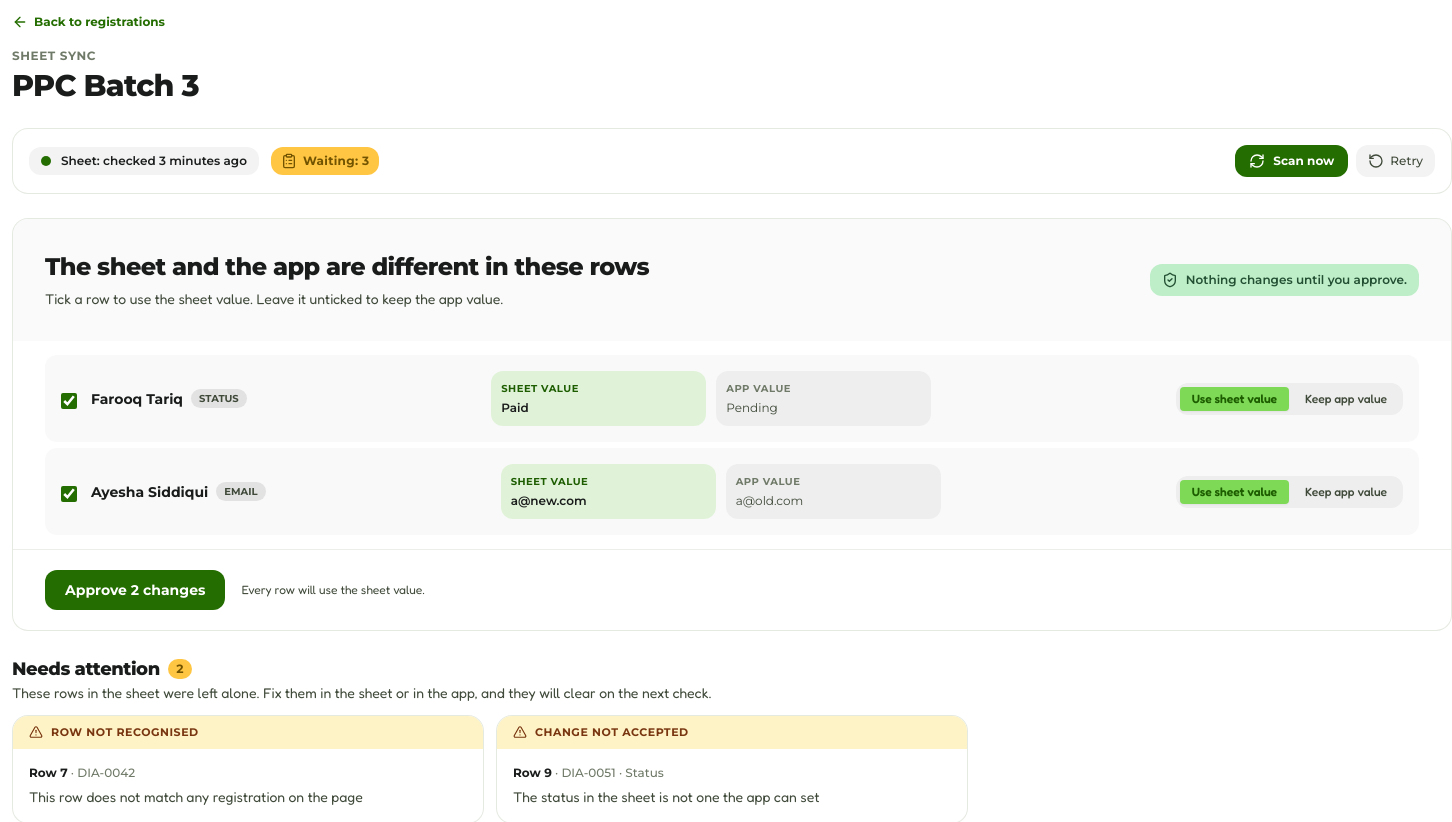
Test: SheetSyncPanel › unticking a row removes its key and updates the button
This screenshot has width=1452, height=822.
Click the checkbox labelled "Ayesha Siddiqui Email": (69, 494) [61,486,77,502]
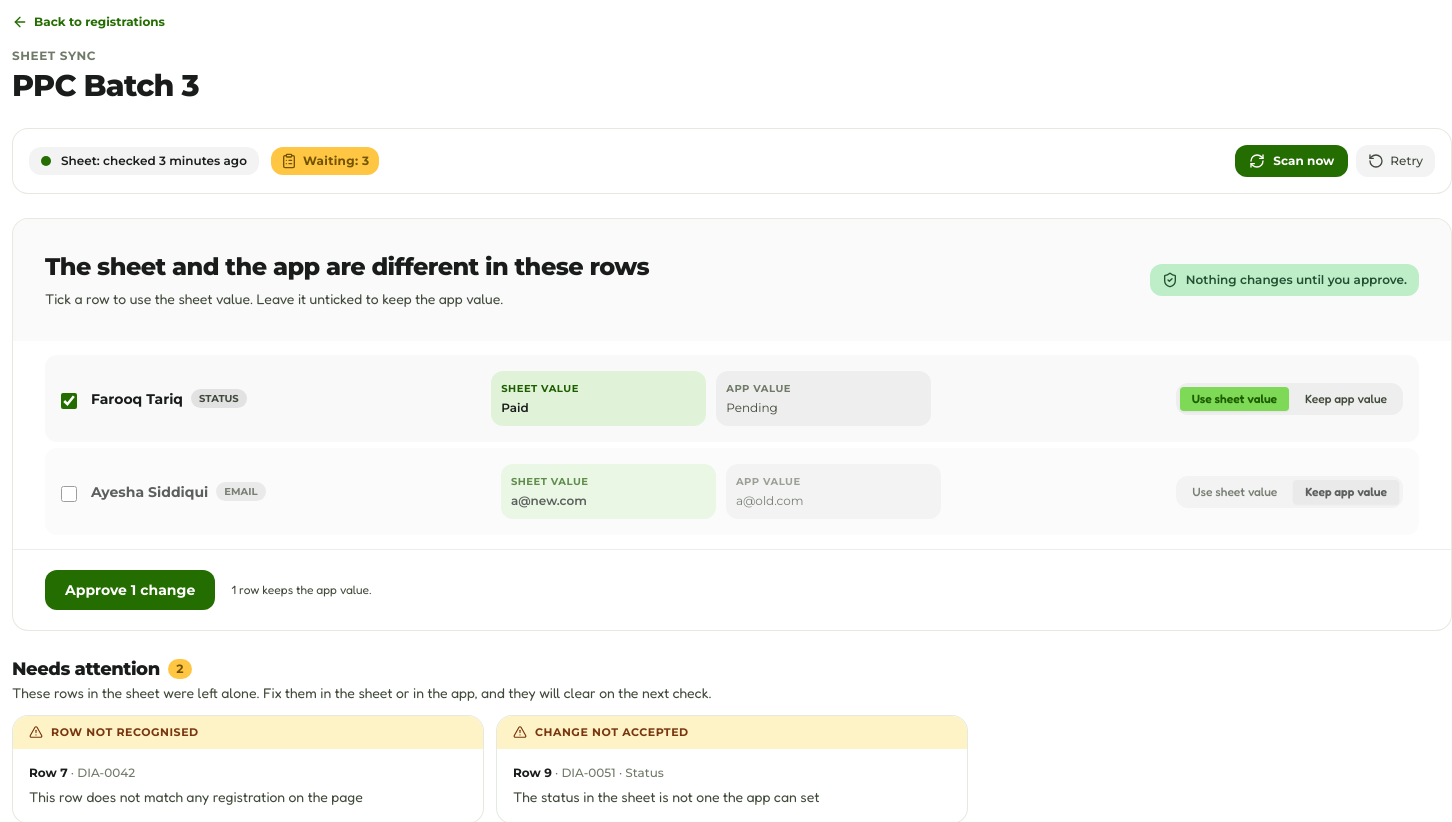
Click the button "Approve 1 change": (130, 590) [45,570,215,610]
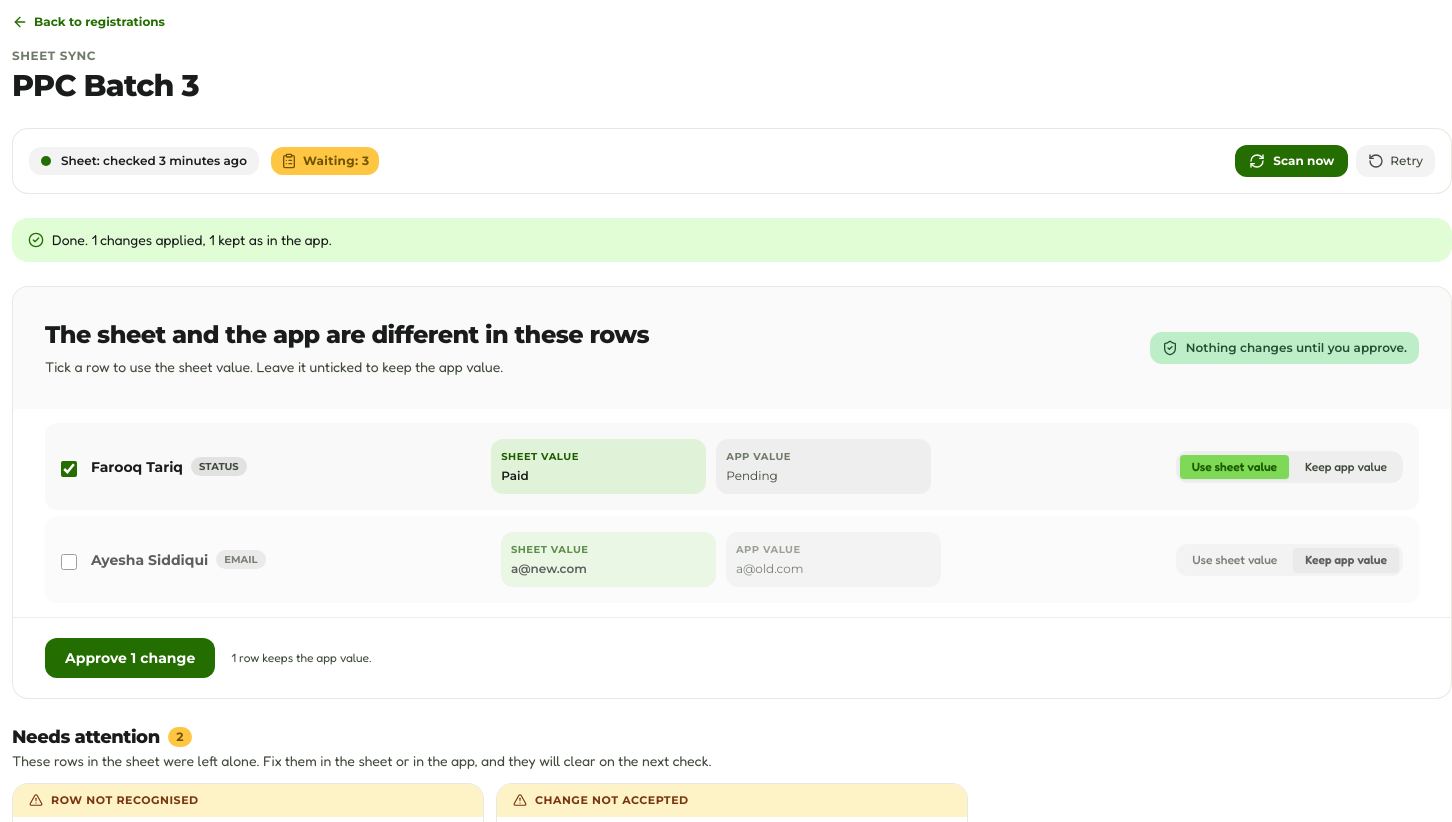
Check: the text "Done. 1 changes applied, 1 kept as in the app." is shown, box [12,218,1451,262]
